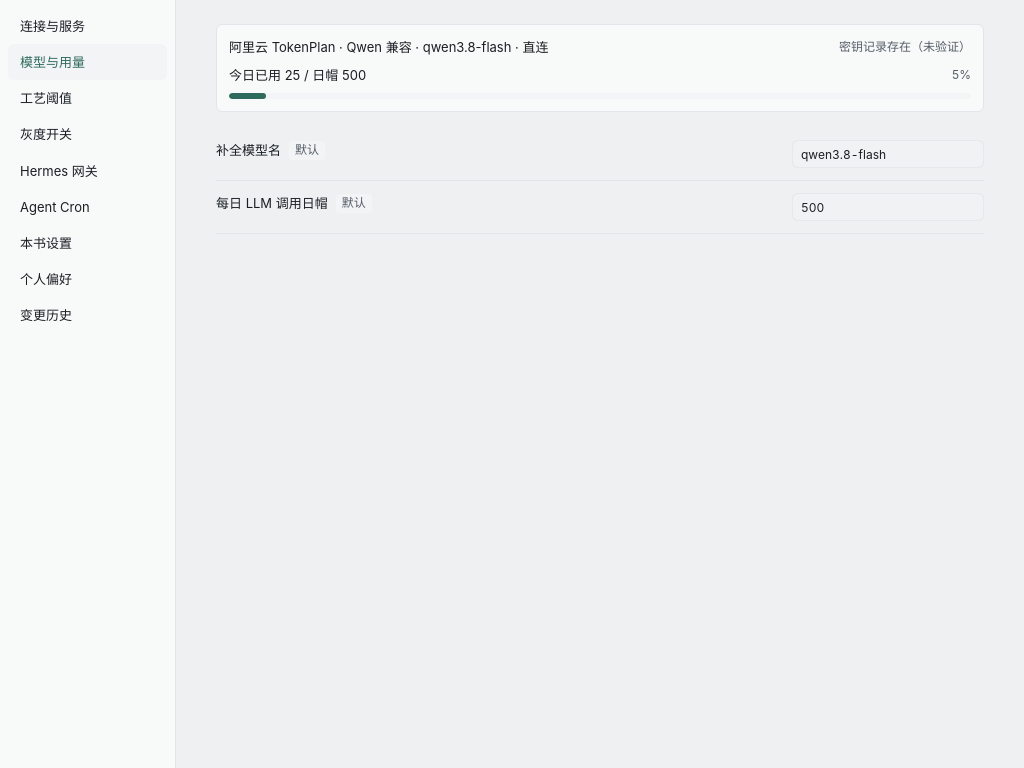
Test: SettingsView › 保存日帽后 usage 卡立即更新
Expected: the text "今日已用 25 / 日帽 500" is shown, [229,65,366,85]
Replace the text in the number field named "每日 LLM 调用日帽" with "100". click: (888, 207)
box: [792,193,984,221]
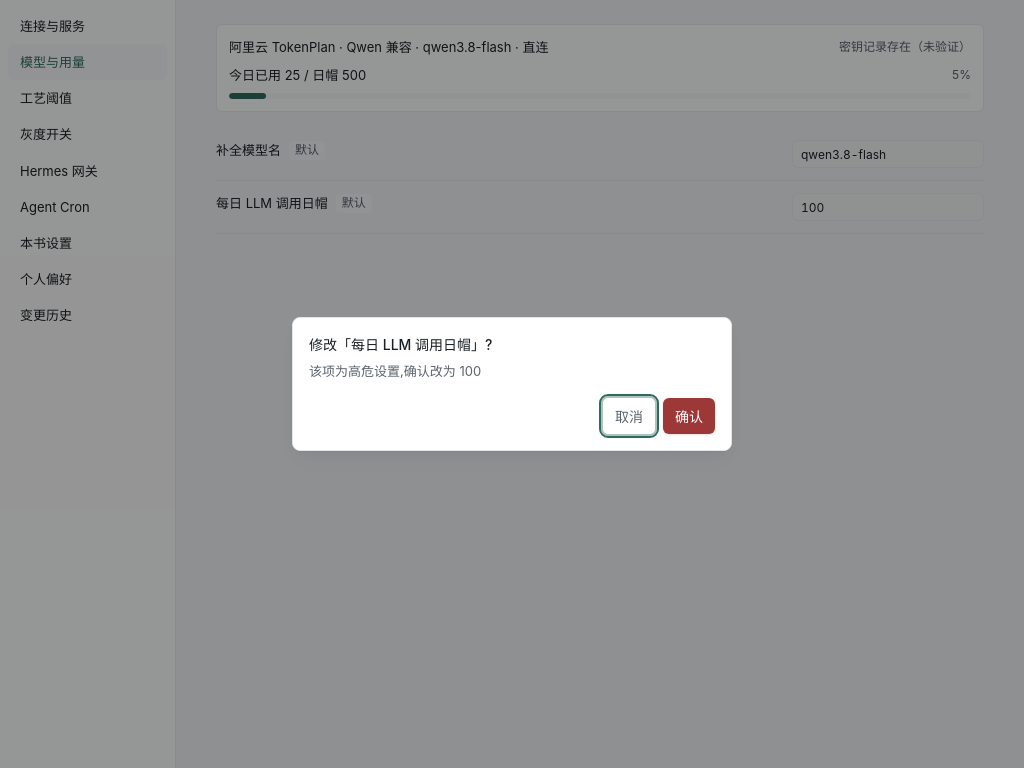
Click the button "确认". click: (689, 416)
box: [663,398,715,434]
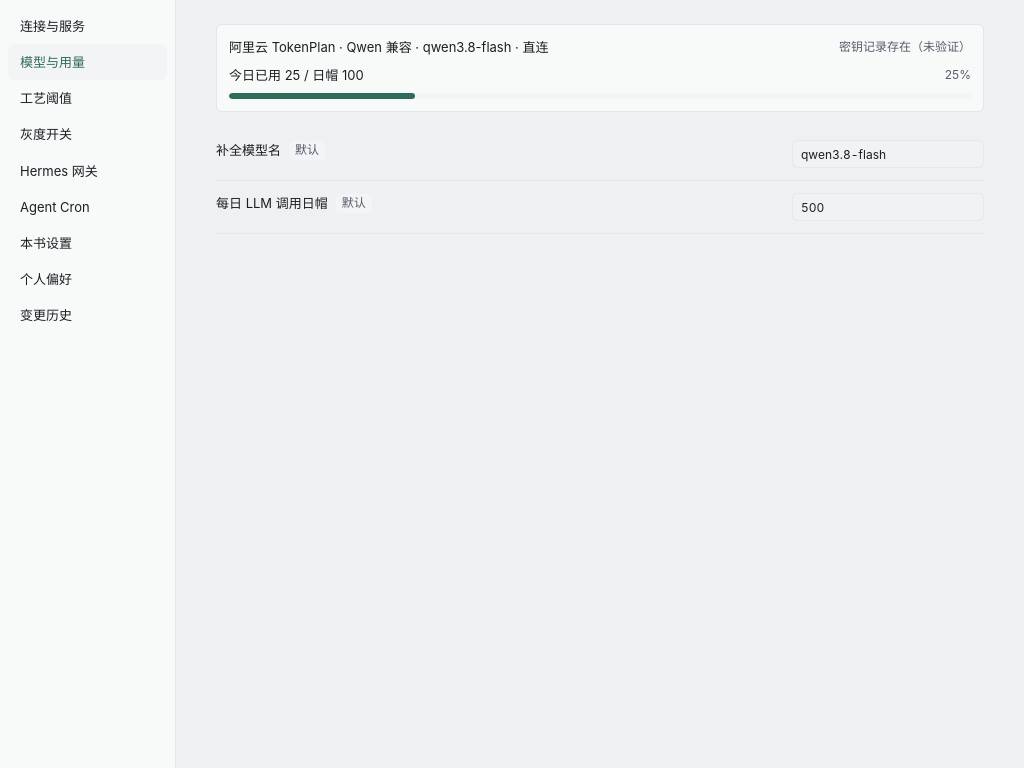
Expected: the text "今日已用 25 / 日帽 100" is shown, [229,65,364,85]
